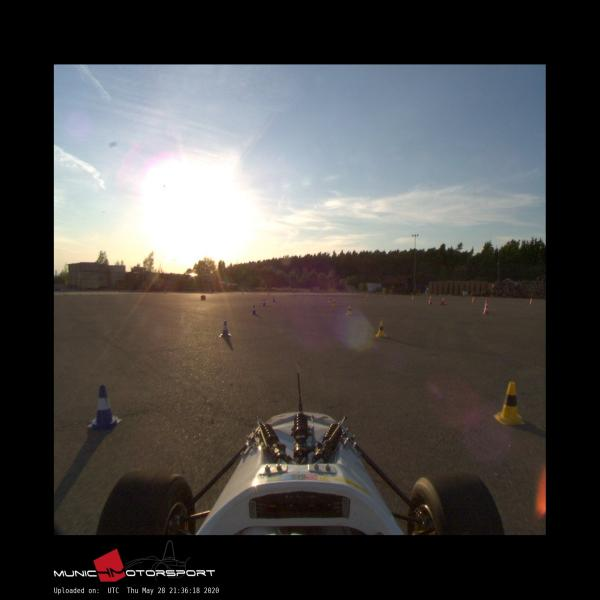blue_cone: (87, 384, 122, 430), (219, 320, 232, 338), (251, 305, 257, 315)
large_orange_cone: (483, 300, 490, 314)
yellow_cone: (493, 381, 525, 426), (375, 321, 387, 338), (346, 306, 352, 314)
